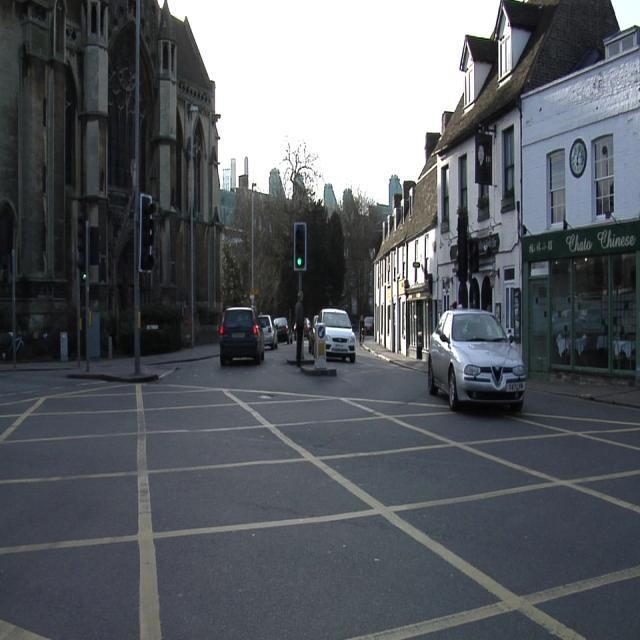Building: (434, 0, 619, 343), (0, 0, 138, 356), (522, 27, 640, 379), (139, 0, 221, 352), (374, 133, 440, 358)
Car: (428, 310, 526, 412), (220, 307, 264, 364), (318, 308, 355, 362), (319, 310, 355, 355), (259, 315, 278, 349), (274, 317, 290, 343)
Road: (0, 347, 640, 638)
Tree: (284, 143, 345, 313)
